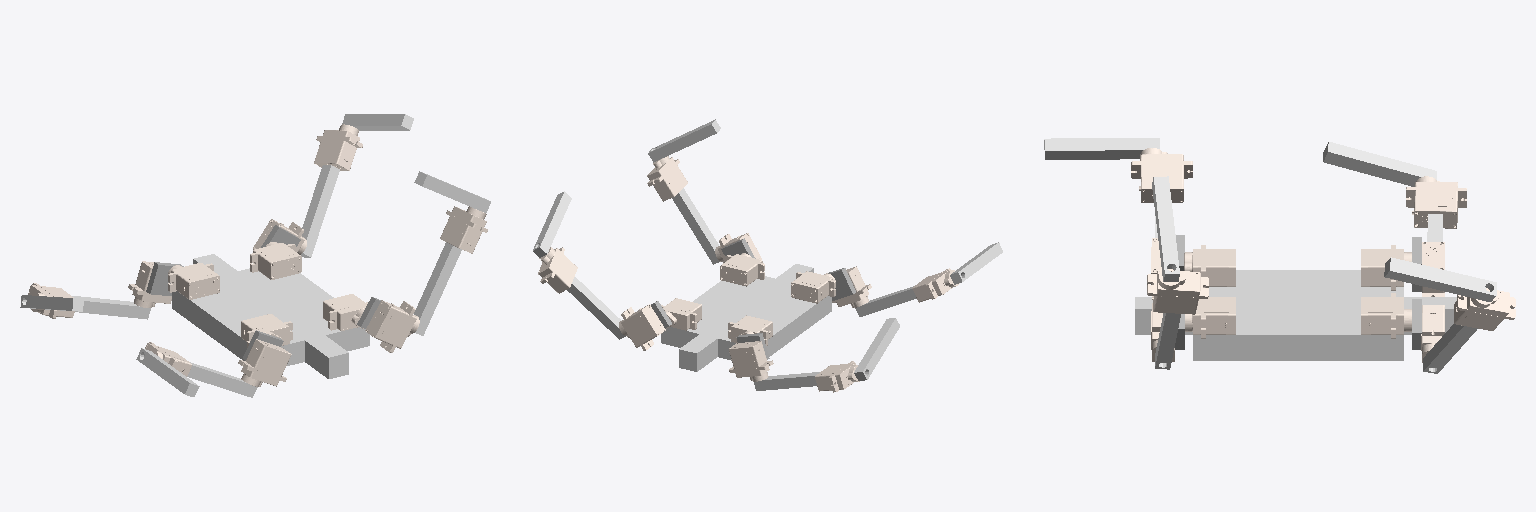
--- Facts derived from the render (not from the file) ---
Views: 3 orthographic renders of the robot side by side, from view 1: azimuth 30°, elevation 25°; view 2: azimuth 150°, elevation 25°; view 3: azimuth 270°, elevation 25°.
Robot: lizard_description — 25 links, 24 joints (12 continuous, 12 fixed); root link belly; default pose: every joint at zero.
Links seen in each view (by area): view 1: belly, FRndServoLink, FLndServoLink, FRstArmLink, RRrdServoLink, RLstServoLink, RRstServoLink, RRstArmLink, FRrdServoLink, FRstServoLink, RRndArmLink, FLndArmLink (+10 smaller); view 2: belly, RRndServoLink, RLndServoLink, RRrdServoLink, FRrdServoLink, FLstServoLink, FRstServoLink, FRstArmLink, RLndArmLink, RRstArmLink, FRndArmLink, RRndArmLink (+8 smaller); view 3: belly, RRndArmLink, FLndArmLink, RLrdServoLink, RLndArmLink, FLrdServoLink, FRrdServoLink, RRstServoLink, FRndArmLink, RRrdServoLink, FRstServoLink, FLstServoLink (+5 smaller).
Boxes of the visible links, bbox=[...] form: belly: bbox=[172, 254, 369, 378]; FRndServoLink: bbox=[365, 300, 419, 352]; FLndServoLink: bbox=[238, 339, 291, 386]; FRstArmLink: bbox=[414, 242, 461, 335]; RRrdServoLink: bbox=[314, 124, 362, 170]; RLstServoLink: bbox=[168, 263, 219, 299]; RRstServoLink: bbox=[250, 242, 301, 279]; RRstArmLink: bbox=[301, 165, 339, 257]; FRrdServoLink: bbox=[440, 206, 487, 253]; FRstServoLink: bbox=[323, 294, 367, 330]; RRndArmLink: bbox=[342, 114, 413, 130]; FLndArmLink: bbox=[136, 348, 199, 396]; belly: bbox=[661, 264, 831, 371]; RRndServoLink: bbox=[619, 304, 665, 350]; RLndServoLink: bbox=[729, 341, 773, 381]; RRrdServoLink: bbox=[538, 247, 577, 293]; FRrdServoLink: bbox=[647, 156, 687, 201]; FLstServoLink: bbox=[791, 271, 835, 303]; FRstServoLink: bbox=[720, 253, 764, 286]; FRstArmLink: bbox=[672, 188, 719, 264]; RLndArmLink: bbox=[854, 318, 899, 380]; RRstArmLink: bbox=[567, 277, 625, 339]; FRndArmLink: bbox=[648, 119, 720, 162]; RRndArmLink: bbox=[533, 191, 571, 257]; belly: bbox=[1135, 270, 1456, 360]; RRndArmLink: bbox=[1384, 257, 1496, 301]; FLndArmLink: bbox=[1044, 138, 1159, 159]; RLrdServoLink: bbox=[1406, 176, 1466, 228]; RLndArmLink: bbox=[1323, 142, 1436, 186]; FLrdServoLink: bbox=[1131, 148, 1192, 202]; FRrdServoLink: bbox=[1147, 269, 1208, 314]; RRstServoLink: bbox=[1361, 293, 1411, 338]; FRndArmLink: bbox=[1152, 176, 1179, 281]; RRrdServoLink: bbox=[1454, 288, 1515, 330]; FRstServoLink: bbox=[1185, 297, 1235, 338]; FLstServoLink: bbox=[1184, 245, 1235, 287].
Size in the robot's own frame: 0.2728 by 0.2454 by 0.1293 metres.
25 mesh visuals loaded from 25 distinct referenced files (25 binary STL).

robot.urdf — lizard_description:
<?xml version="1.0" encoding="utf-8"?>
<!-- This URDF was automatically created by SolidWorks to URDF Exporter! Originally created by Stephen Brawner ([email redacted]) 
     Commit Version: 1.5.0-0-g9aa0fdb  Build Version: 1.5.7004.21443
     For more information, please see http://wiki.ros.org/sw_urdf_exporter -->
<robot
  name="lizard_description">
  <link
    name="belly">
    <inertial>
      <origin
        xyz="0.03 0.045 0.0086392"
        rpy="0 0 0" />
      <mass
        value="0.12561" />
      <inertia
        ixx="0.00019491"
        ixy="1.0522E-20"
        ixz="9.9374E-22"
        iyy="6.826E-05"
        iyz="-3.2518E-22"
        izz="0.00025927" />
    </inertial>
    <visual>
      <origin
        xyz="0 0 0"
        rpy="0 0 0" />
      <geometry>
        <mesh
          filename="package://lizard_description/meshes/belly.STL" />
      </geometry>
      <material
        name="">
        <color
          rgba="0.91765 0.91765 0.91765 1" />
      </material>
    </visual>
    <collision>
      <origin
        xyz="0 0 0"
        rpy="0 0 0" />
      <geometry>
        <mesh
          filename="package://lizard_description/meshes/belly.STL" />
      </geometry>
    </collision>
  </link>
  <link
    name="FRstServoLink">
    <inertial>
      <origin
        xyz="0.00982301146692348 0.0100133157576773 0.00609982243576659"
        rpy="0 0 0" />
      <mass
        value="0.00746769202007824" />
      <inertia
        ixx="4.30213630580842E-07"
        ixy="-1.03279472389634E-08"
        ixz="3.63105904300421E-12"
        iyy="1.43700202219469E-07"
        iyz="-7.8895640909465E-12"
        izz="3.95348133595681E-07" />
    </inertial>
    <visual>
      <origin
        xyz="0 0 0"
        rpy="0 0 0" />
      <geometry>
        <mesh
          filename="package://lizard_description/meshes/FRstServoLink.STL" />
      </geometry>
      <material
        name="">
        <color
          rgba="1 0.949019607843137 0.909803921568627 1" />
      </material>
    </visual>
    <collision>
      <origin
        xyz="0 0 0"
        rpy="0 0 0" />
      <geometry>
        <mesh
          filename="package://lizard_description/meshes/FRstServoLink.STL" />
      </geometry>
    </collision>
  </link>
  <joint
    name="FRstServoJnt"
    type="fixed">
    <origin
      xyz="0.07 -0.01 0.015"
      rpy="0 0 1.5708" />
    <parent
      link="belly" />
    <child
      link="FRstServoLink" />
    <axis
      xyz="0 0 0" />
    <safety_controller
      k_velocity="0" />
  </joint>
  <link
    name="FRplateLink">
    <inertial>
      <origin
        xyz="0.00668019140904452 0.00393393093402902 0.00614981938219049"
        rpy="0 0 0" />
      <mass
        value="0.0019371681469282" />
      <inertia
        ixx="1.2989349389867E-07"
        ixy="2.22458553397162E-10"
        ixz="3.47764093056011E-10"
        iyy="6.83273335716312E-08"
        iyz="1.47233380560847E-09"
        izz="6.96871715585702E-08" />
    </inertial>
    <visual>
      <origin
        xyz="0 0 0"
        rpy="0 0 0" />
      <geometry>
        <mesh
          filename="package://lizard_description/meshes/FRplateLink.STL" />
      </geometry>
      <material
        name="">
        <color
          rgba="0.749019607843137 0.749019607843137 0.749019607843137 1" />
      </material>
    </visual>
    <collision>
      <origin
        xyz="0 0 0"
        rpy="0 0 0" />
      <geometry>
        <mesh
          filename="package://lizard_description/meshes/FRplateLink.STL" />
      </geometry>
    </collision>
  </link>
  <joint
    name="FRplateJnt"
    type="continuous">
    <origin
      xyz="-9.9E-05 0.00525 0.0061"
      rpy="-0.7854 0 -3.1416" />
    <parent
      link="FRstServoLink" />
    <child
      link="FRplateLink" />
    <axis
      xyz="1 0 0" />
    <safety_controller
      k_velocity="0" />
  </joint>
  <link
    name="FRndServoLink">
    <inertial>
      <origin
        xyz="0.0168769876393255 0.0103866842603198 0.00609982230844828"
        rpy="0 0 0" />
      <mass
        value="0.00746769221167402" />
      <inertia
        ixx="4.30213662397098E-07"
        ixy="-1.03279128219074E-08"
        ixz="-3.63142581155928E-12"
        iyy="1.43700191865541E-07"
        iyz="7.87859191332848E-12"
        izz="3.95348121118197E-07" />
    </inertial>
    <visual>
      <origin
        xyz="0 0 0"
        rpy="0 0 0" />
      <geometry>
        <mesh
          filename="package://lizard_description/meshes/FRndServoLink.STL" />
      </geometry>
      <material
        name="">
        <color
          rgba="1 0.949019607843137 0.909803921568627 1" />
      </material>
    </visual>
    <collision>
      <origin
        xyz="0 0 0"
        rpy="0 0 0" />
      <geometry>
        <mesh
          filename="package://lizard_description/meshes/FRndServoLink.STL" />
      </geometry>
    </collision>
  </link>
  <joint
    name="FRndServoJnt"
    type="fixed">
    <origin
      xyz="0.009151 -0.0038103 -0.0059566"
      rpy="1.5708 -0.21631 1.5708" />
    <parent
      link="FRplateLink" />
    <child
      link="FRndServoLink" />
    <axis
      xyz="0 0 0" />
    <safety_controller
      k_velocity="0" />
  </joint>
  <link
    name="FRstArmLink">
    <inertial>
      <origin
        xyz="-0.0269507106222497 0.00410000000000087 -0.00292452298323934"
        rpy="0 0 0" />
      <mass
        value="0.00390389558935974" />
      <inertia
        ixx="5.48625626225724E-08"
        ixy="4.09834906295523E-20"
        ixz="-1.16051172864203E-07"
        iyy="1.12495084275856E-06"
        iyz="4.44077624602567E-21"
        izz="1.11172983308916E-06" />
    </inertial>
    <visual>
      <origin
        xyz="0 0 0"
        rpy="0 0 0" />
      <geometry>
        <mesh
          filename="package://lizard_description/meshes/FRstArmLink.STL" />
      </geometry>
      <material
        name="">
        <color
          rgba="0.917647058823529 0.917647058823529 0.917647058823529 1" />
      </material>
    </visual>
    <collision>
      <origin
        xyz="0 0 0"
        rpy="0 0 0" />
      <geometry>
        <mesh
          filename="package://lizard_description/meshes/FRstArmLink.STL" />
      </geometry>
    </collision>
  </link>
  <joint
    name="FRstArmJnt"
    type="continuous">
    <origin
      xyz="0.03095 0.01515 0.0061"
      rpy="0 0 -1.5708" />
    <parent
      link="FRndServoLink" />
    <child
      link="FRstArmLink" />
    <axis
      xyz="0 1 0" />
    <safety_controller
      k_velocity="0" />
  </joint>
  <link
    name="FRrdServoLink">
    <inertial>
      <origin
        xyz="0.00260017760807482 0.00463668422140362 0.0125769882228761"
        rpy="0 0 0" />
      <mass
        value="0.00746769199220507" />
      <inertia
        ixx="3.95348127647139E-07"
        ixy="-7.88706847151875E-12"
        ixz="3.63087709548236E-12"
        iyy="1.43700197181375E-07"
        iyz="-1.0327938443167E-08"
        izz="4.3021363700595E-07" />
    </inertial>
    <visual>
      <origin
        xyz="0 0 0"
        rpy="0 0 0" />
      <geometry>
        <mesh
          filename="package://lizard_description/meshes/FRrdServoLink.STL" />
      </geometry>
      <material
        name="">
        <color
          rgba="1 0.949019607843137 0.909803921568627 1" />
      </material>
    </visual>
    <collision>
      <origin
        xyz="0 0 0"
        rpy="0 0 0" />
      <geometry>
        <mesh
          filename="package://lizard_description/meshes/FRrdServoLink.STL" />
      </geometry>
    </collision>
  </link>
  <joint
    name="FRrdServoJnt"
    type="fixed">
    <origin
      xyz="-0.055242 0.0081 -0.010018"
      rpy="1.6789 0 -1.5708" />
    <parent
      link="FRstArmLink" />
    <child
      link="FRrdServoLink" />
    <axis
      xyz="0 0 0" />
    <safety_controller
      k_velocity="0" />
  </joint>
  <link
    name="FRndArmLink">
    <inertial>
      <origin
        xyz="0.00825000000000063 -0.0194715580023163 -0.0188613909000947"
        rpy="0 0 0" />
      <mass
        value="0.00390389558935974" />
      <inertia
        ixx="1.12495084275856E-06"
        ixy="2.28963593554678E-20"
        ixz="2.21022659674169E-20"
        iyy="5.66076905592061E-07"
        iyz="-5.40752695363567E-07"
        izz="6.00515490119668E-07" />
    </inertial>
    <visual>
      <origin
        xyz="0 0 0"
        rpy="0 0 0" />
      <geometry>
        <mesh
          filename="package://lizard_description/meshes/FRndArmLink.STL" />
      </geometry>
      <material
        name="">
        <color
          rgba="0.917647058823529 0.917647058823529 0.917647058823529 1" />
      </material>
    </visual>
    <collision>
      <origin
        xyz="0 0 0"
        rpy="0 0 0" />
      <geometry>
        <mesh
          filename="package://lizard_description/meshes/FRndArmLink.STL" />
      </geometry>
    </collision>
  </link>
  <joint
    name="FRndArmJnt"
    type="continuous">
    <origin
      xyz="0.0026 0.0094 0.0225"
      rpy="0.90142 -1.5708 0" />
    <parent
      link="FRrdServoLink" />
    <child
      link="FRndArmLink" />
    <axis
      xyz="-1 0 0" />
    <safety_controller
      k_velocity="0" />
  </joint>
  <link
    name="FLstServoLink">
    <inertial>
      <origin
        xyz="0.0100133157573078 0.0098230114666415 0.00610017756399171"
        rpy="0 0 0" />
      <mass
        value="0.00746769202030283" />
      <inertia
        ixx="1.4370020221647E-07"
        ixy="-1.03279472451323E-08"
        ixz="7.88955387781639E-12"
        iyy="4.30213630601606E-07"
        iyz="-3.63106347865435E-12"
        izz="3.9534813362142E-07" />
    </inertial>
    <visual>
      <origin
        xyz="0 0 0"
        rpy="0 0 0" />
      <geometry>
        <mesh
          filename="package://lizard_description/meshes/FLstServoLink.STL" />
      </geometry>
      <material
        name="">
        <color
          rgba="1 0.949019607843137 0.909803921568627 1" />
      </material>
    </visual>
    <collision>
      <origin
        xyz="0 0 0"
        rpy="0 0 0" />
      <geometry>
        <mesh
          filename="package://lizard_description/meshes/FLstServoLink.STL" />
      </geometry>
    </collision>
  </link>
  <joint
    name="FLstSevoJnt"
    type="fixed">
    <origin
      xyz="-0.01 -0.01 0.015"
      rpy="0 0 0" />
    <parent
      link="belly" />
    <child
      link="FLstServoLink" />
    <axis
      xyz="0 0 0" />
    <safety_controller
      k_velocity="0" />
  </joint>
  <link
    name="FLplateLink">
    <inertial>
      <origin
        xyz="0.00700458579898856 0.00252919140904428 -0.00205715065366482"
        rpy="0 0 0" />
      <mass
        value="0.00193716814692821" />
      <inertia
        ixx="7.0371454726811E-08"
        ixy="3.960999951759E-10"
        ixz="-8.76931659140639E-10"
        iyy="1.2989349389867E-07"
        iyz="-1.16329128855733E-10"
        izz="6.76430504033906E-08" />
    </inertial>
    <visual>
      <origin
        xyz="0 0 0"
        rpy="0 0 0" />
      <geometry>
        <mesh
          filename="package://lizard_description/meshes/FLplateLink.STL" />
      </geometry>
      <material
        name="">
        <color
          rgba="0.749019607843137 0.749019607843137 0.749019607843137 1" />
      </material>
    </visual>
    <collision>
      <origin
        xyz="0 0 0"
        rpy="0 0 0" />
      <geometry>
        <mesh
          filename="package://lizard_description/meshes/FLplateLink.STL" />
      </geometry>
    </collision>
  </link>
  <joint
    name="FLplateJnt"
    type="continuous">
    <origin
      xyz="0.00525 -0.00425 0.0061"
      rpy="0 0 -3.1416" />
    <parent
      link="FLstServoLink" />
    <child
      link="FLplateLink" />
    <axis
      xyz="0 1 0" />
    <safety_controller
      k_velocity="0" />
  </joint>
  <link
    name="FLndServoLink">
    <inertial>
      <origin
        xyz="0.00961331556405451 0.0124769884120718 -0.00610017785206844"
        rpy="0 0 0" />
      <mass
        value="0.0074676934157608" />
      <inertia
        ixx="1.43700195463786E-07"
        ixy="1.03279015438127E-08"
        ixz="-7.87721700254369E-12"
        iyy="4.30213694151839E-07"
        iyz="-3.63085349524111E-12"
        izz="3.95348138553585E-07" />
    </inertial>
    <visual>
      <origin
        xyz="0 0 0"
        rpy="0 0 0" />
      <geometry>
        <mesh
          filename="package://lizard_description/meshes/FLndServoLink.STL" />
      </geometry>
      <material
        name="">
        <color
          rgba="1 0.949019607843137 0.909803921568627 1" />
      </material>
    </visual>
    <collision>
      <origin
        xyz="0 0 0"
        rpy="0 0 0" />
      <geometry>
        <mesh
          filename="package://lizard_description/meshes/FLndServoLink.STL" />
      </geometry>
    </collision>
  </link>
  <joint
    name="FLndServoJnt"
    type="fixed">
    <origin
      xyz="0.012878 0.005 0.0077146"
      rpy="-1.5708 0.49974 3.1416" />
    <parent
      link="FLplateLink" />
    <child
      link="FLndServoLink" />
    <axis
      xyz="0 0 0" />
    <safety_controller
      k_velocity="0" />
  </joint>
  <link
    name="FLstArmLink">
    <inertial>
      <origin
        xyz="0.00825000000000001 -0.0271079361760165 0.000231157956261309"
        rpy="0 0 0" />
      <mass
        value="0.00390389558935974" />
      <inertia
        ixx="1.12495084275856E-06"
        ixy="1.75362289861242E-21"
        ixz="-4.07948265128109E-23"
        iyy="4.23480892796739E-08"
        iyz="9.22634255113664E-09"
        izz="1.12424430643205E-06" />
    </inertial>
    <visual>
      <origin
        xyz="0 0 0"
        rpy="0 0 0" />
      <geometry>
        <mesh
          filename="package://lizard_description/meshes/FLstArmLink.STL" />
      </geometry>
      <material
        name="">
        <color
          rgba="0.917647058823529 0.917647058823529 0.917647058823529 1" />
      </material>
    </visual>
    <collision>
      <origin
        xyz="0 0 0"
        rpy="0 0 0" />
      <geometry>
        <mesh
          filename="package://lizard_description/meshes/FLstArmLink.STL" />
      </geometry>
    </collision>
  </link>
  <joint
    name="FLstArmJnt"
    type="continuous">
    <origin
      xyz="0.00485 0.0224 -0.0061"
      rpy="3.1416 0 1.5708" />
    <parent
      link="FLndServoLink" />
    <child
      link="FLstArmLink" />
    <axis
      xyz="-1 0 0" />
    <safety_controller
      k_velocity="0" />
  </joint>
  <link
    name="FLrdServoLink">
    <inertial>
      <origin
        xyz="0.00399982242724478 0.00438668425194329 -0.0125769885522945"
        rpy="0 0 0" />
      <mass
        value="0.00746769206909512" />
      <inertia
        ixx="3.95348133617446E-07"
        ixy="7.88921034835249E-12"
        ixz="3.63101112382171E-12"
        iyy="1.43700201560523E-07"
        iyz="1.03279459294475E-08"
        izz="4.30213632719249E-07" />
    </inertial>
    <visual>
      <origin
        xyz="0 0 0"
        rpy="0 0 0" />
      <geometry>
        <mesh
          filename="package://lizard_description/meshes/FLrdServoLink.STL" />
      </geometry>
      <material
        name="">
        <color
          rgba="1 0.949019607843137 0.909803921568627 1" />
      </material>
    </visual>
    <collision>
      <origin
        xyz="0 0 0"
        rpy="0 0 0" />
      <geometry>
        <mesh
          filename="package://lizard_description/meshes/FLrdServoLink.STL" />
      </geometry>
    </collision>
  </link>
  <joint
    name="FLrdServoJnt"
    type="fixed">
    <origin
      xyz="0.01225 -0.056032 -0.0035223"
      rpy="1.5793 0 -3.1416" />
    <parent
      link="FLstArmLink" />
    <child
      link="FLrdServoLink" />
    <axis
      xyz="0 0 0" />
    <safety_controller
      k_velocity="0" />
  </joint>
  <link
    name="FLndArmLink">
    <inertial>
      <origin
        xyz="-0.0271089217366485 0.00825000000000112 -2.4980018054066E-16"
        rpy="0 0 0" />
      <mass
        value="0.00390389558935974" />
      <inertia
        ixx="4.226941333496E-08"
        ixy="2.64299973841119E-20"
        ixz="-4.31025722625483E-22"
        iyy="1.12495084275856E-06"
        iyz="1.05879118406788E-22"
        izz="1.12432298237677E-06" />
    </inertial>
    <visual>
      <origin
        xyz="0 0 0"
        rpy="0 0 0" />
      <geometry>
        <mesh
          filename="package://lizard_description/meshes/FLndArmLink.STL" />
      </geometry>
      <material
        name="">
        <color
          rgba="0.917647058823529 0.917647058823529 0.917647058823529 1" />
      </material>
    </visual>
    <collision>
      <origin
        xyz="0 0 0"
        rpy="0 0 0" />
      <geometry>
        <mesh
          filename="package://lizard_description/meshes/FLndArmLink.STL" />
      </geometry>
    </collision>
  </link>
  <joint
    name="FLndArmJnt"
    type="continuous">
    <origin
      xyz="0.004 0.00915 -0.0225"
      rpy="-1.5708 0 -1.5708" />
    <parent
      link="FLrdServoLink" />
    <child
      link="FLndArmLink" />
    <axis
      xyz="0 -1 0" />
    <safety_controller
      k_velocity="0" />
  </joint>
  <link
    name="RRstServoLink">
    <inertial>
      <origin
        xyz="0.0100133157575187 0.00982301146658547 0.00610017756400114"
        rpy="0 0 0" />
      <mass
        value="0.00746769202033973" />
      <inertia
        ixx="1.43700202226749E-07"
        ixy="-1.032794724163E-08"
        ixz="7.88956138521972E-12"
        iyy="4.302136305912E-07"
        iyz="-3.63106326494752E-12"
        izz="3.95348133601827E-07" />
    </inertial>
    <visual>
      <origin
        xyz="0 0 0"
        rpy="0 0 0" />
      <geometry>
        <mesh
          filename="package://lizard_description/meshes/RRstServoLink.STL" />
      </geometry>
      <material
        name="">
        <color
          rgba="1 0.949019607843137 0.909803921568627 1" />
      </material>
    </visual>
    <collision>
      <origin
        xyz="0 0 0"
        rpy="0 0 0" />
      <geometry>
        <mesh
          filename="package://lizard_description/meshes/RRstServoLink.STL" />
      </geometry>
    </collision>
  </link>
  <joint
    name="RRstServoJnt"
    type="fixed">
    <origin
      xyz="0.07 0.1 0.015"
      rpy="0 0 3.1416" />
    <parent
      link="belly" />
    <child
      link="RRstServoLink" />
    <axis
      xyz="0 0 0" />
    <safety_controller
      k_velocity="0" />
  </joint>
  <link
    name="RRplateLink">
    <inertial>
      <origin
        xyz="0.00676495121694468 -0.00716406818044035 0.000905124877732241"
        rpy="0 0 0" />
      <mass
        value="0.0019371681469282" />
      <inertia
        ixx="1.2989484089839E-07"
        ixy="2.96495662438881E-10"
        ixz="5.59300435513508E-11"
        iyy="7.05777925877868E-08"
        iyz="-3.98396101087842E-10"
        izz="6.74353655426951E-08" />
    </inertial>
    <visual>
      <origin
        xyz="0 0 0"
        rpy="0 0 0" />
      <geometry>
        <mesh
          filename="package://lizard_description/meshes/RRplateLink.STL" />
      </geometry>
      <material
        name="">
        <color
          rgba="0.749019607843137 0.749019607843137 0.749019607843137 1" />
      </material>
    </visual>
    <collision>
      <origin
        xyz="0 0 0"
        rpy="0 0 0" />
      <geometry>
        <mesh
          filename="package://lizard_description/meshes/RRplateLink.STL" />
      </geometry>
    </collision>
  </link>
  <joint
    name="RRplateJnt"
    type="continuous">
    <origin
      xyz="0.00525 -0.0001 0.0061"
      rpy="0 0 -1.5827" />
    <parent
      link="RRstServoLink" />
    <child
      link="RRplateLink" />
    <axis
      xyz="0.99993 0.011904 0" />
    <safety_controller
      k_velocity="0" />
  </joint>
  <link
    name="RRndServoLink">
    <inertial>
      <origin
        xyz="0.00961331577515898 0.0168769874997621 -0.00610017780272777"
        rpy="0 0 0" />
      <mass
        value="0.00746769227571282" />
      <inertia
        ixx="1.43700188921078E-07"
        ixy="1.03279061512865E-08"
        ixz="-7.87953197551153E-12"
        iyy="4.30213665771772E-07"
        iyz="-3.63036938017759E-12"
        izz="3.95348120655683E-07" />
    </inertial>
    <visual>
      <origin
        xyz="0 0 0"
        rpy="0 0 0" />
      <geometry>
        <mesh
          filename="package://lizard_description/meshes/RRndServoLink.STL" />
      </geometry>
      <material
        name="">
        <color
          rgba="1 0.949019607843137 0.909803921568627 1" />
      </material>
    </visual>
    <collision>
      <origin
        xyz="0 0 0"
        rpy="0 0 0" />
      <geometry>
        <mesh
          filename="package://lizard_description/meshes/RRndServoLink.STL" />
      </geometry>
    </collision>
  </link>
  <joint
    name="RRndServoJnt"
    type="fixed">
    <origin
      xyz="0.009212 -0.0051538 0.01491"
      rpy="-1.5708 0.9097 1.5827" />
    <parent
      link="RRplateLink" />
    <child
      link="RRndServoLink" />
    <axis
      xyz="0 0 0" />
    <safety_controller
      k_velocity="0" />
  </joint>
  <link
    name="RRstArmLink">
    <inertial>
      <origin
        xyz="0.00400000000000043 -0.0251126471271529 0.0102102199775915"
        rpy="0 0 0" />
      <mass
        value="0.00390389558935974" />
      <inertia
        ixx="1.12495084275856E-06"
        ixy="5.67776772456398E-21"
        ixz="-2.43940051586295E-21"
        iyy="1.95764497849003E-07"
        iyz="3.77530347202475E-07"
        izz="9.70827897862725E-07" />
    </inertial>
    <visual>
      <origin
        xyz="0 0 0"
        rpy="0 0 0" />
      <geometry>
        <mesh
          filename="package://lizard_description/meshes/RRstArmLink.STL" />
      </geometry>
      <material
        name="">
        <color
          rgba="0.917647058823529 0.917647058823529 0.917647058823529 1" />
      </material>
    </visual>
    <collision>
      <origin
        xyz="0 0 0"
        rpy="0 0 0" />
      <geometry>
        <mesh
          filename="package://lizard_description/meshes/RRstArmLink.STL" />
      </geometry>
    </collision>
  </link>
  <joint
    name="RRstArmJnt"
    type="continuous">
    <origin
      xyz="0.00485 0.03105 -0.0061"
      rpy="-3.1416 0 1.5708" />
    <parent
      link="RRndServoLink" />
    <child
      link="RRstArmLink" />
    <axis
      xyz="-1 0 0" />
    <safety_controller
      k_velocity="0" />
  </joint>
  <link
    name="RRrdServoLink">
    <inertial>
      <origin
        xyz="0.00400017767200779 0.00438668430807108 0.0125769879095588"
        rpy="0 0 0" />
      <mass
        value="0.0074676923684259" />
      <inertia
        ixx="3.95348124795591E-07"
        ixy="-7.87921990216771E-12"
        ixz="3.63166363896135E-12"
        iyy="1.43700193125393E-07"
        iyz="-1.03279163798291E-08"
        izz="4.30213663659106E-07" />
    </inertial>
    <visual>
      <origin
        xyz="0 0 0"
        rpy="0 0 0" />
      <geometry>
        <mesh
          filename="package://lizard_description/meshes/RRrdServoLink.STL" />
      </geometry>
      <material
        name="">
        <color
          rgba="1 0.949019607843137 0.909803921568627 1" />
      </material>
    </visual>
    <collision>
      <origin
        xyz="0 0 0"
        rpy="0 0 0" />
      <geometry>
        <mesh
          filename="package://lizard_description/meshes/RRrdServoLink.STL" />
      </geometry>
    </collision>
  </link>
  <joint
    name="RRrdServoJnt"
    type="fixed">
    <origin
      xyz="0.008 -0.05037 0.024797"
      rpy="-1.1846 0 -3.1416" />
    <parent
      link="RRstArmLink" />
    <child
      link="RRrdServoLink" />
    <axis
      xyz="0 0 0" />
    <safety_controller
      k_velocity="0" />
  </joint>
  <link
    name="RRndArmLink">
    <inertial>
      <origin
        xyz="-0.0270688973483293 0.00409999999999987 -0.00147256037884266"
        rpy="0 0 0" />
      <mass
        value="0.00390389558935974" />
      <inertia
        ixx="4.54622043777925E-08"
        ixy="1.02901268201597E-21"
        ixz="-5.86905190678917E-08"
        iyy="1.12495084275856E-06"
        iyz="5.29395592033938E-23"
        izz="1.12113019133394E-06" />
    </inertial>
    <visual>
      <origin
        xyz="0 0 0"
        rpy="0 0 0" />
      <geometry>
        <mesh
          filename="package://lizard_description/meshes/RRndArmLink.STL" />
      </geometry>
      <material
        name="">
        <color
          rgba="0.917647058823529 0.917647058823529 0.917647058823529 1" />
      </material>
    </visual>
    <collision>
      <origin
        xyz="0 0 0"
        rpy="0 0 0" />
      <geometry>
        <mesh
          filename="package://lizard_description/meshes/RRndArmLink.STL" />
      </geometry>
    </collision>
  </link>
  <joint
    name="RRndArmJnt"
    type="continuous">
    <origin
      xyz="0.004 0.00915 0.02665"
      rpy="1.5708 0 -1.5708" />
    <parent
      link="RRrdServoLink" />
    <child
      link="RRndArmLink" />
    <axis
      xyz="0 1 0" />
    <safety_controller
      k_velocity="0" />
  </joint>
  <link
    name="RLstServoLink">
    <inertial>
      <origin
        xyz="0.00982301121173274 0.0100133156629377 0.00609982231678958"
        rpy="0 0 0" />
      <mass
        value="0.00746769221751027" />
      <inertia
        ixx="4.30213637166019E-07"
        ixy="-1.03279487755208E-08"
        ixz="3.62888648014338E-12"
        iyy="1.43700207633304E-07"
        iyz="-7.89258396696791E-12"
        izz="3.9534813702742E-07" />
    </inertial>
    <visual>
      <origin
        xyz="0 0 0"
        rpy="0 0 0" />
      <geometry>
        <mesh
          filename="package://lizard_description/meshes/RLstServoLink.STL" />
      </geometry>
      <material
        name="">
        <color
          rgba="1 0.949019607843137 0.909803921568627 1" />
      </material>
    </visual>
    <collision>
      <origin
        xyz="0 0 0"
        rpy="0 0 0" />
      <geometry>
        <mesh
          filename="package://lizard_description/meshes/RLstServoLink.STL" />
      </geometry>
    </collision>
  </link>
  <joint
    name="RLstServoJnt"
    type="fixed">
    <origin
      xyz="-0.01 0.1 0.015"
      rpy="0 0 -1.5708" />
    <parent
      link="belly" />
    <child
      link="RLstServoLink" />
    <axis
      xyz="0 0 0" />
    <safety_controller
      k_velocity="0" />
  </joint>
  <link
    name="RLplateLink">
    <inertial>
      <origin
        xyz="0.00657919140904437 -0.00649888246337607 0.00332575070540744"
        rpy="0 0 0" />
      <mass
        value="0.00193716814692821" />
      <inertia
        ixx="1.2989349389867E-07"
        ixy="-3.67503145262686E-10"
        ixz="1.88066771707992E-10"
        iyy="6.99558711867067E-08"
        iyz="-1.31536283342677E-09"
        izz="6.80586339434949E-08" />
    </inertial>
    <visual>
      <origin
        xyz="0 0 0"
        rpy="0 0 0" />
      <geometry>
        <mesh
          filename="package://lizard_description/meshes/RLplateLink.STL" />
      </geometry>
      <material
        name="">
        <color
          rgba="0.749019607843137 0.749019607843137 0.749019607843137 1" />
      </material>
    </visual>
    <collision>
      <origin
        xyz="0 0 0"
        rpy="0 0 0" />
      <geometry>
        <mesh
          filename="package://lizard_description/meshes/RLplateLink.STL" />
      </geometry>
    </collision>
  </link>
  <joint
    name="RLplateJnt"
    type="continuous">
    <origin
      xyz="-0.0002 0.00525 0.0061"
      rpy="3.1416 0 3.1416" />
    <parent
      link="RLstServoLink" />
    <child
      link="RLplateLink" />
    <axis
      xyz="1 0 0" />
    <safety_controller
      k_velocity="0" />
  </joint>
  <link
    name="RLndServoLink">
    <inertial>
      <origin
        xyz="0.00961331561995876 0.0168769886979349 0.0060998222122414"
        rpy="0 0 0" />
      <mass
        value="0.00746769306317626" />
      <inertia
        ixx="1.4370019370957E-07"
        ixy="1.03279196726826E-08"
        ixz="-7.8829404499583E-12"
        iyy="4.3021367236017E-07"
        iyz="-3.62992452713935E-12"
        izz="3.95348136263488E-07" />
    </inertial>
    <visual>
      <origin
        xyz="0 0 0"
        rpy="0 0 0" />
      <geometry>
        <mesh
          filename="package://lizard_description/meshes/RLndServoLink.STL" />
      </geometry>
      <material
        name="">
        <color
          rgba="1 0.949019607843137 0.909803921568627 1" />
      </material>
    </visual>
    <collision>
      <origin
        xyz="0 0 0"
        rpy="0 0 0" />
      <geometry>
        <mesh
          filename="package://lizard_description/meshes/RLndServoLink.STL" />
      </geometry>
    </collision>
  </link>
  <joint
    name="RLndServoJnt"
    type="fixed">
    <origin
      xyz="0.00905 -0.012737 -0.0093682"
      rpy="1.5708 -0.3124 1.5708" />
    <parent
      link="RLplateLink" />
    <child
      link="RLndServoLink" />
    <axis
      xyz="0 0 0" />
    <safety_controller
      k_velocity="0" />
  </joint>
  <link
    name="RLstArmLink">
    <inertial>
      <origin
        xyz="-0.0271020769007601 0.00825000000000382 0.000609151367917019"
        rpy="0 0 0" />
      <mass
        value="0.00390389558935974" />
      <inertia
        ixx="4.28157680833787E-08"
        ixy="9.67644152370657E-20"
        ixz="2.4308159164746E-08"
        iyy="1.12495084275856E-06"
        iyz="-2.18697802045689E-21"
        izz="1.12377662762835E-06" />
    </inertial>
    <visual>
      <origin
        xyz="0 0 0"
        rpy="0 0 0" />
      <geometry>
        <mesh
          filename="package://lizard_description/meshes/RLstArmLink.STL" />
      </geometry>
      <material
        name="">
        <color
          rgba="0.917647058823529 0.917647058823529 0.917647058823529 1" />
      </material>
    </visual>
    <collision>
      <origin
        xyz="0 0 0"
        rpy="0 0 0" />
      <geometry>
        <mesh
          filename="package://lizard_description/meshes/RLstArmLink.STL" />
      </geometry>
    </collision>
  </link>
  <joint
    name="RLstArmJnt"
    type="continuous">
    <origin
      xyz="0.00485 0.0268 0.0061"
      rpy="0 0 0" />
    <parent
      link="RLndServoLink" />
    <child
      link="RLstArmLink" />
    <axis
      xyz="0 1 0" />
    <safety_controller
      k_velocity="0" />
  </joint>
  <link
    name="RLrdServoLink">
    <inertial>
      <origin
        xyz="0.00400017757136072 0.0043866842397865 0.0125769884653833"
        rpy="0 0 0" />
      <mass
        value="0.00746769201080103" />
      <inertia
        ixx="3.95348132311498E-07"
        ixy="-7.88895635999624E-12"
        ixz="3.63105731877519E-12"
        iyy="1.43700201041078E-07"
        iyz="-1.03279453992789E-08"
        izz="4.30213632080653E-07" />
    </inertial>
    <visual>
      <origin
        xyz="0 0 0"
        rpy="0 0 0" />
      <geometry>
        <mesh
          filename="package://lizard_description/meshes/RLrdServoLink.STL" />
      </geometry>
      <material
        name="">
        <color
          rgba="1 0.949019607843137 0.909803921568627 1" />
      </material>
    </visual>
    <collision>
      <origin
        xyz="0 0 0"
        rpy="0 0 0" />
      <geometry>
        <mesh
          filename="package://lizard_description/meshes/RLrdServoLink.STL" />
      </geometry>
    </collision>
  </link>
  <joint
    name="RLrdServoJnt"
    type="fixed">
    <origin
      xyz="-0.055896 0.00425 0.0052573"
      rpy="-1.5483 0 1.5708" />
    <parent
      link="RLstArmLink" />
    <child
      link="RLrdServoLink" />
    <axis
      xyz="0 0 0" />
    <safety_controller
      k_velocity="0" />
  </joint>
  <link
    name="RLndArmLink">
    <inertial>
      <origin
        xyz="-0.025570986208634 0.00824999999999998 0.00900101672265811"
        rpy="0 0 0" />
      <mass
        value="0.00390389558935973" />
      <inertia
        ixx="1.61560339778859E-07"
        ixy="-2.06861327587261E-20"
        ixz="3.38893563794123E-07"
        iyy="1.12495084275855E-06"
        iyz="7.17331027205986E-21"
        izz="1.00503205593287E-06" />
    </inertial>
    <visual>
      <origin
        xyz="0 0 0"
        rpy="0 0 0" />
      <geometry>
        <mesh
          filename="package://lizard_description/meshes/RLndArmLink.STL" />
      </geometry>
      <material
        name="">
        <color
          rgba="0.917647058823529 0.917647058823529 0.917647058823529 1" />
      </material>
    </visual>
    <collision>
      <origin
        xyz="0 0 0"
        rpy="0 0 0" />
      <geometry>
        <mesh
          filename="package://lizard_description/meshes/RLndArmLink.STL" />
      </geometry>
    </collision>
  </link>
  <joint
    name="RLndArmJnt"
    type="continuous">
    <origin
      xyz="0.004 0.00915 0.0225"
      rpy="1.5708 0 -1.5708" />
    <parent
      link="RLrdServoLink" />
    <child
      link="RLndArmLink" />
    <axis
      xyz="0 1 0" />
    <safety_controller
      k_velocity="0" />
  </joint>
</robot>
